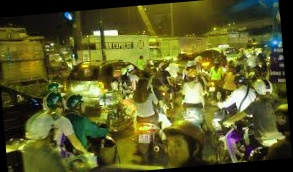Bien-so: (129, 130, 141, 141)
